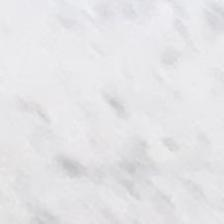Non_Crack: (31, 36, 197, 181)
